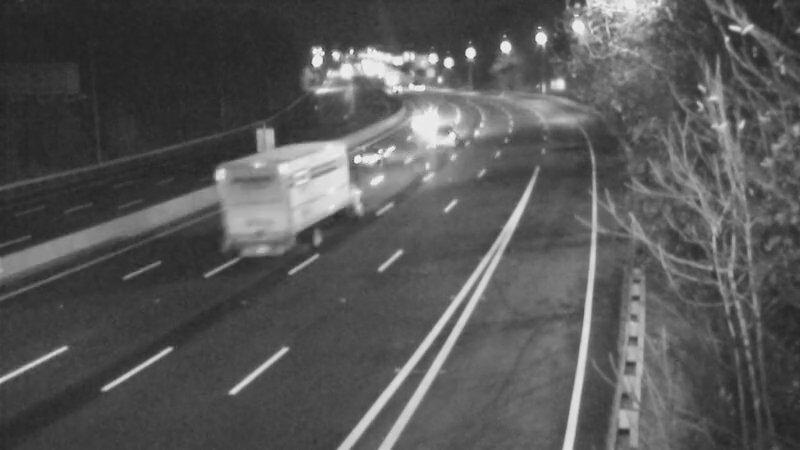vehicle: (337, 122, 417, 202), (221, 157, 301, 237), (387, 57, 437, 107), (371, 62, 421, 112), (404, 92, 454, 142), (422, 111, 472, 161)
